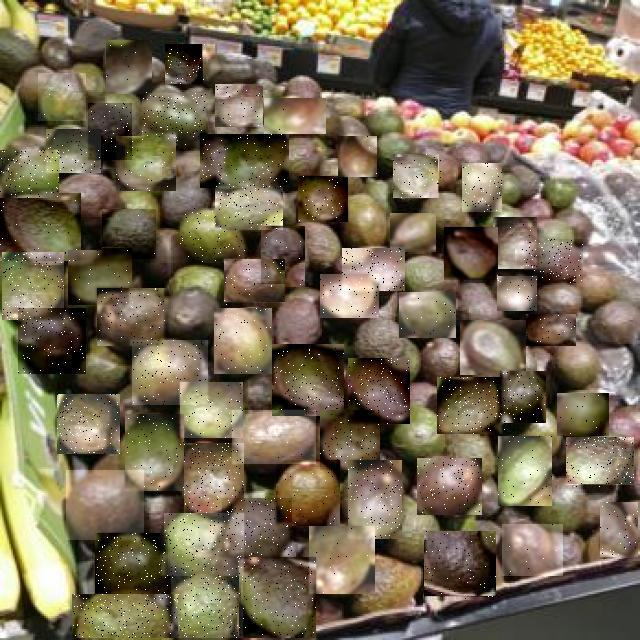Avocado: (239, 557, 316, 638), (0, 193, 81, 261), (66, 471, 144, 541), (272, 344, 344, 416), (164, 513, 244, 576), (132, 340, 208, 405), (425, 532, 497, 600), (200, 134, 289, 188), (72, 594, 178, 638), (125, 414, 184, 491), (232, 410, 316, 464), (96, 533, 170, 594), (19, 308, 87, 374), (309, 526, 375, 594), (171, 576, 243, 638), (348, 460, 402, 539), (276, 460, 340, 526), (2, 252, 64, 320), (185, 443, 245, 513), (223, 498, 293, 558), (348, 358, 410, 424), (98, 288, 168, 346), (438, 377, 506, 434), (214, 308, 272, 374), (57, 394, 120, 454), (498, 436, 552, 506), (181, 208, 249, 263), (417, 458, 482, 515), (460, 320, 526, 375), (321, 411, 381, 471), (180, 382, 243, 438), (68, 250, 132, 305), (142, 94, 206, 148), (567, 438, 635, 488), (116, 136, 176, 191), (502, 524, 563, 576), (215, 187, 283, 230), (444, 228, 498, 282), (0, 151, 59, 199), (103, 210, 157, 262), (224, 260, 285, 306), (342, 248, 405, 291), (261, 226, 305, 287), (399, 293, 456, 339), (524, 239, 583, 283), (320, 274, 379, 318), (89, 103, 133, 160), (107, 40, 153, 94), (46, 129, 101, 173), (39, 74, 87, 124), (500, 371, 546, 423), (298, 177, 348, 223), (493, 217, 537, 269), (557, 393, 609, 436), (264, 98, 326, 134), (394, 155, 442, 199), (600, 502, 638, 557), (215, 84, 263, 127), (462, 164, 502, 214), (390, 214, 436, 254), (526, 314, 576, 346), (166, 45, 206, 85), (338, 136, 377, 177), (497, 276, 537, 311)
